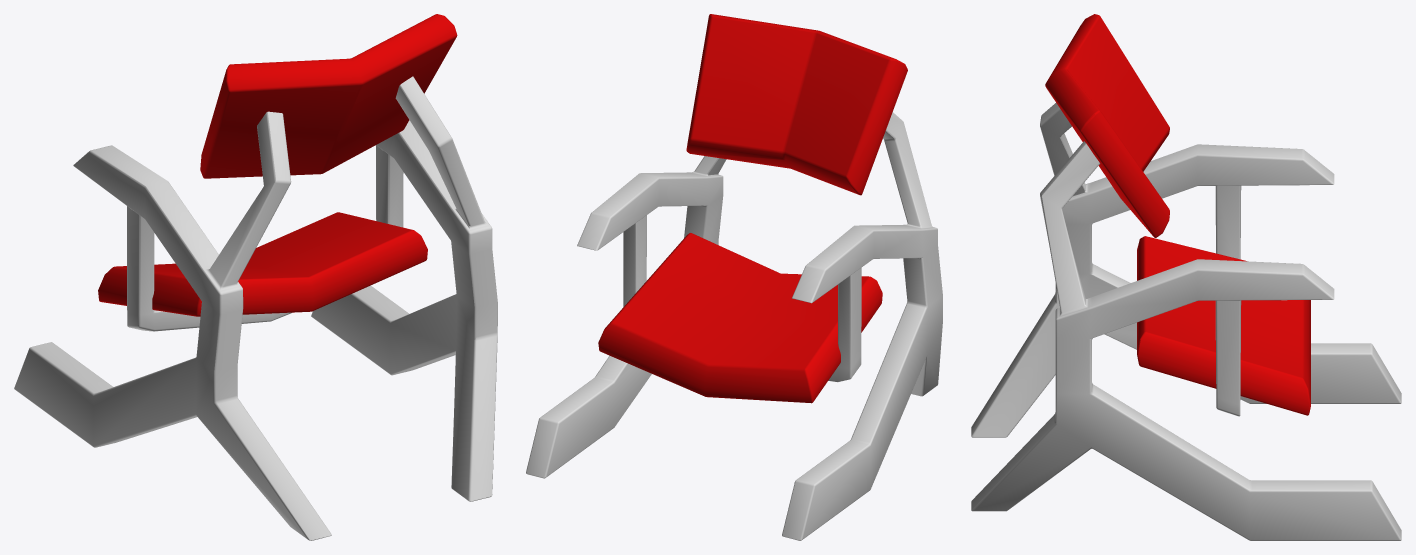
Rendered from Metal_chair.fbx.
The picture shows the model from 3 angles, left to right: view 1: azimuth 30°, elevation 25°; view 2: azimuth 150°, elevation 25°; view 3: azimuth 270°, elevation 25°; orthographic projection. The views are drawn at different scales.
Visible parts, largest first — view 1: Chair_metal; view 2: Chair_metal; view 3: Chair_metal.
Boxes of the visible parts, left/top/right/bottom form: Chair_metal: left=14, top=14, right=497, bottom=540; Chair_metal: left=526, top=14, right=942, bottom=540; Chair_metal: left=971, top=14, right=1401, bottom=540.
Bounding box in the file's own units: 80.62 × 65.52 × 84.07.
